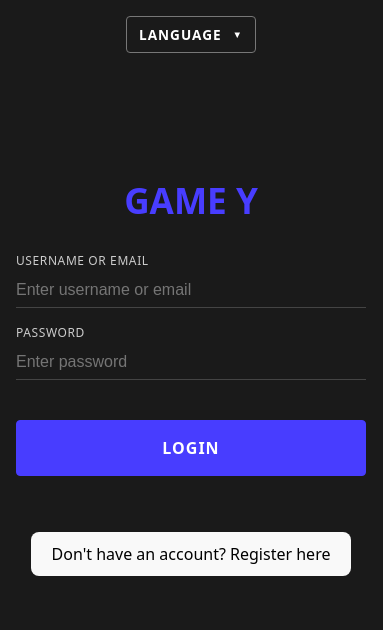
Test: RegisterForm › toggles to register form and back
The image size is (383, 630).
Switch to register
Click the button "Don't have an account? Register here".
click(191, 554)  # box [31,532,351,576]
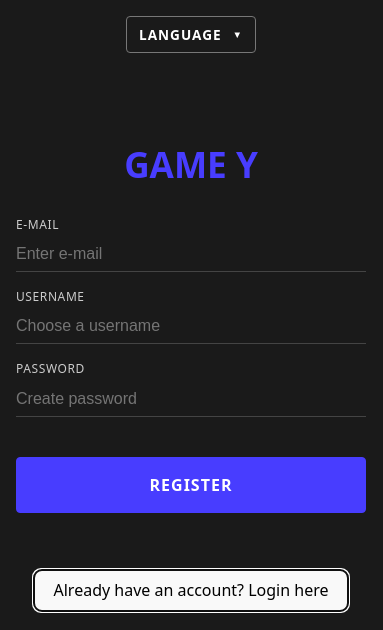
Expected: the button "REGISTER" is shown, [16,456,366,512]
Expected: the field labelled "E-Mail" is shown, [16,237,366,272]
Switch to login
Click the button "Already have an account? Login here".
click(191, 590)  # box [33,568,349,612]
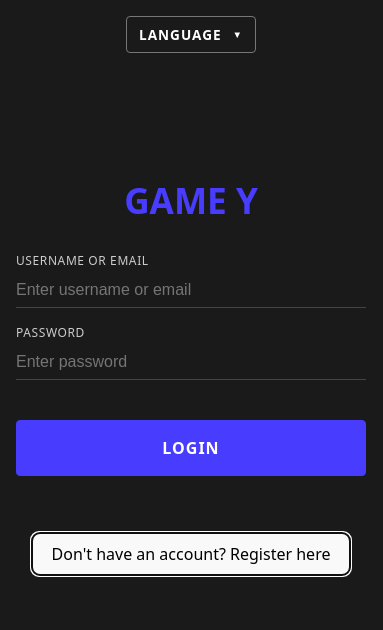
Expected: the button "LOGIN" is shown, [16,420,366,476]
Expected: the label labelled "E-Mail" is gone
